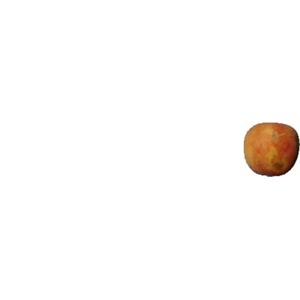pêssego: (244, 123, 300, 178)
